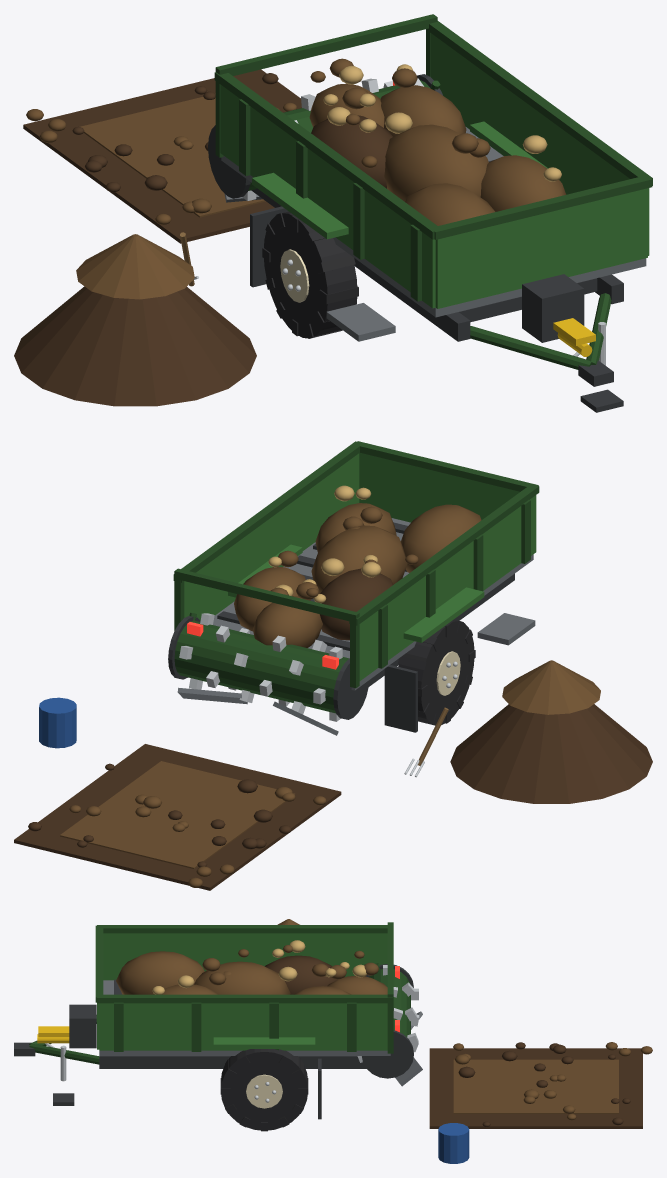
Rendered from manure_spreader.glb.
3 renders of one model, top to bottom at view 1: azimuth 30°, elevation 25°; view 2: azimuth 150°, elevation 25°; view 3: azimuth 270°, elevation 25°, orthographic. The views are drawn at different scales.
Visible parts, largest first — view 1: SpreaderBody, SpreadProps, ManureHeap, BeaterUnit; view 2: SpreadProps, SpreaderBody, ManureHeap, BeaterUnit; view 3: SpreaderBody, SpreadProps, ManureHeap, BeaterUnit.
Boxes of the visible parts, box(x1,y1,x2,y2) form: SpreaderBody: box(214, 14, 652, 412); SpreadProps: box(14, 69, 301, 406); ManureHeap: box(309, 58, 566, 225); BeaterUnit: box(208, 74, 442, 202); SpreadProps: box(14, 660, 652, 890); SpreaderBody: box(173, 441, 539, 732); ManureHeap: box(234, 485, 481, 647); BeaterUnit: box(168, 613, 369, 735); SpreaderBody: box(14, 922, 399, 1131); SpreadProps: box(277, 919, 652, 1163); ManureHeap: box(116, 940, 387, 994); BeaterUnit: box(357, 964, 422, 1086).
Size of the model in its own units: 4.79 by 1.52 by 6.58.
